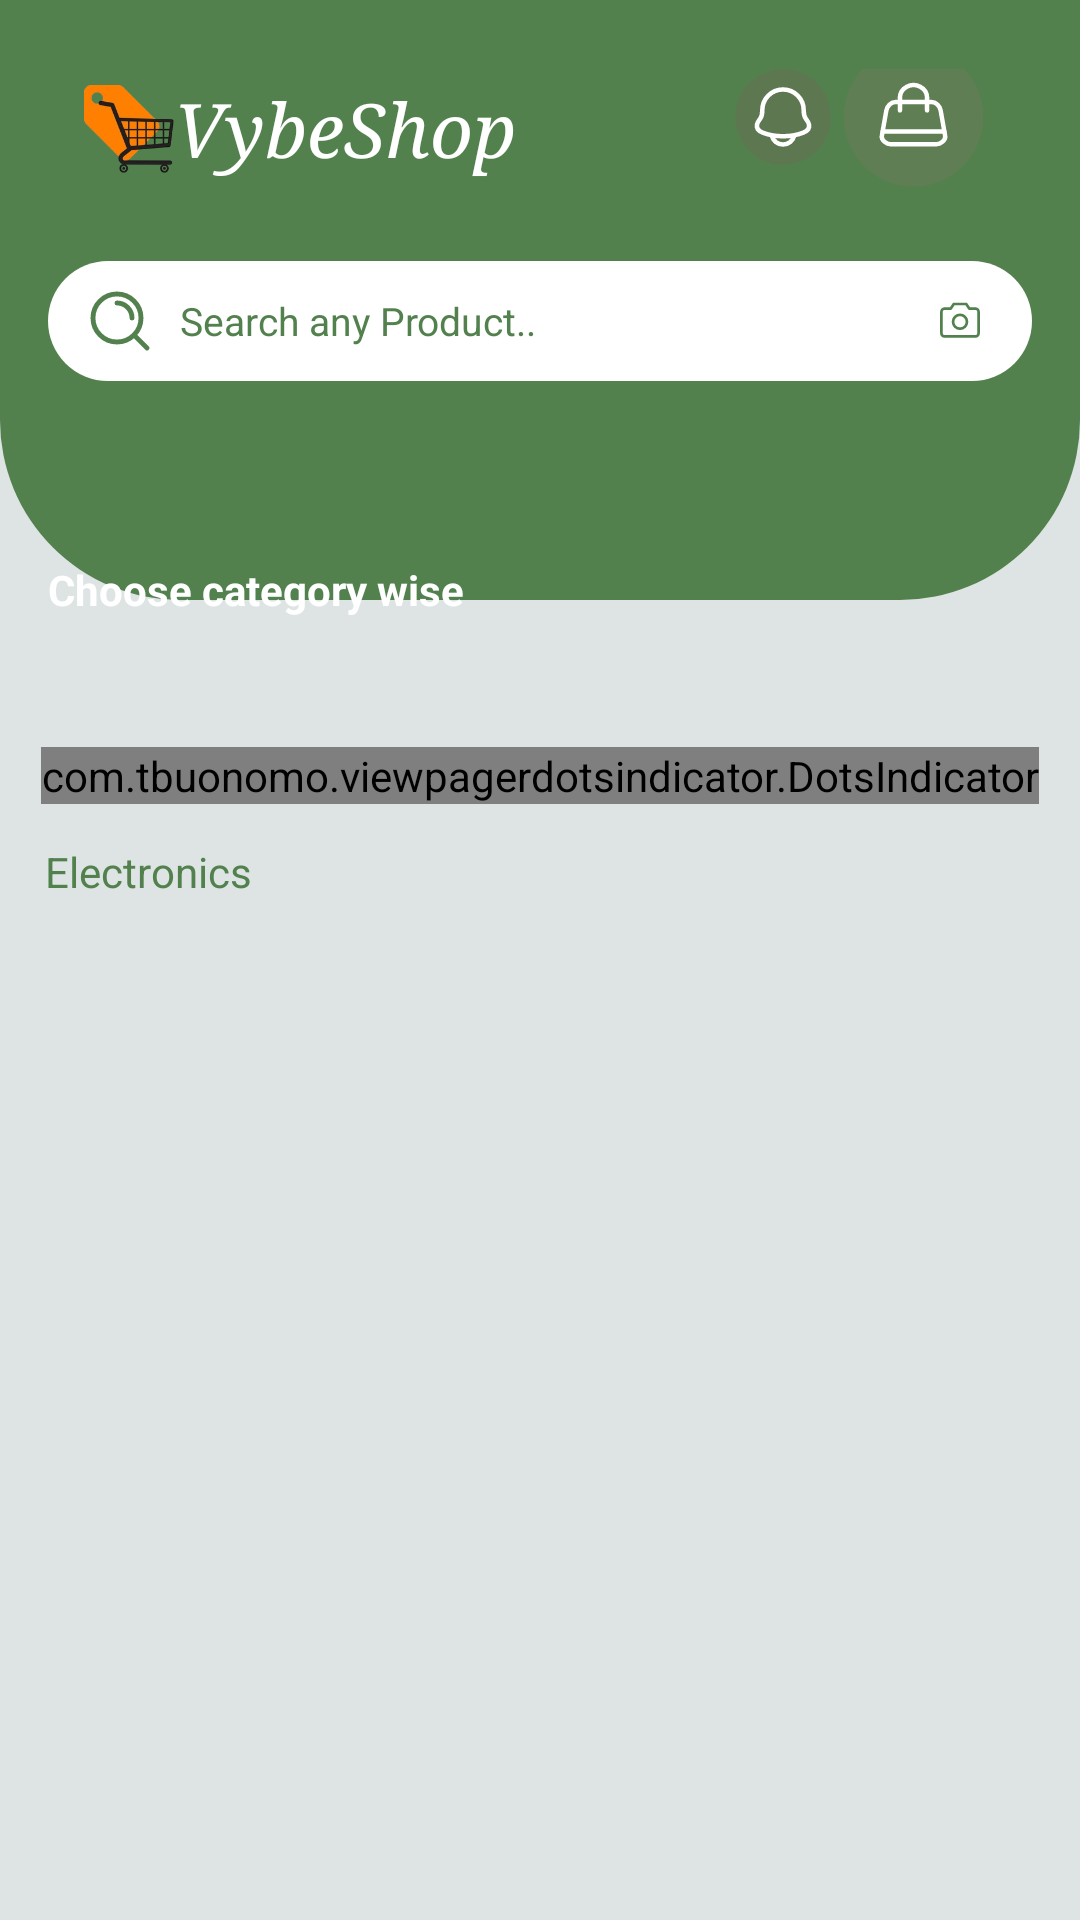

Where icons sit on this 1080x1920 app screen, as [left=x1, top=y1, right=x2, bottom=y2]:
bell: [left=735, top=69, right=831, bottom=165]
